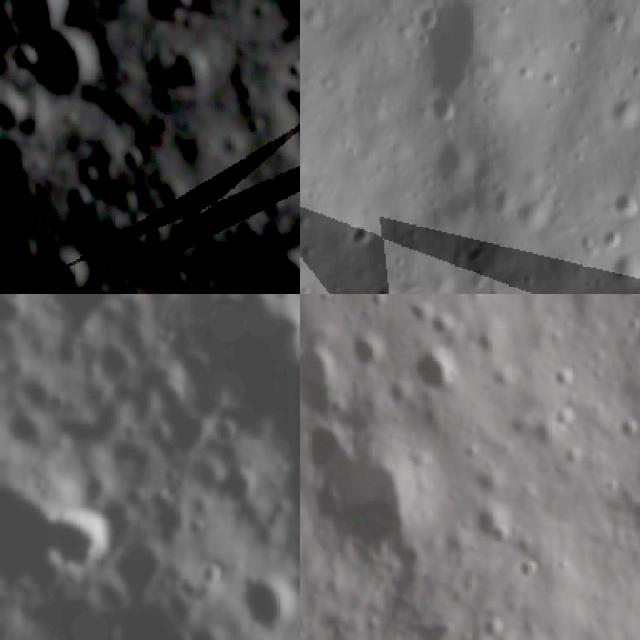crater: (0, 463, 63, 594), (15, 26, 101, 120), (264, 48, 300, 194), (48, 502, 115, 580), (230, 565, 300, 637), (45, 294, 130, 343), (150, 402, 208, 460), (160, 49, 210, 102), (8, 0, 74, 38), (211, 465, 259, 512), (247, 253, 300, 294), (31, 253, 84, 294), (135, 0, 194, 35), (358, 328, 389, 368), (191, 558, 224, 594), (429, 359, 466, 390), (212, 414, 238, 457), (0, 294, 26, 336), (348, 218, 382, 249), (430, 101, 463, 129), (615, 256, 640, 289), (616, 412, 637, 450), (482, 611, 507, 640), (606, 199, 640, 220), (402, 294, 428, 319), (517, 552, 543, 576), (437, 316, 468, 336), (551, 368, 571, 388), (602, 229, 620, 251), (561, 407, 578, 430), (559, 445, 581, 460)
